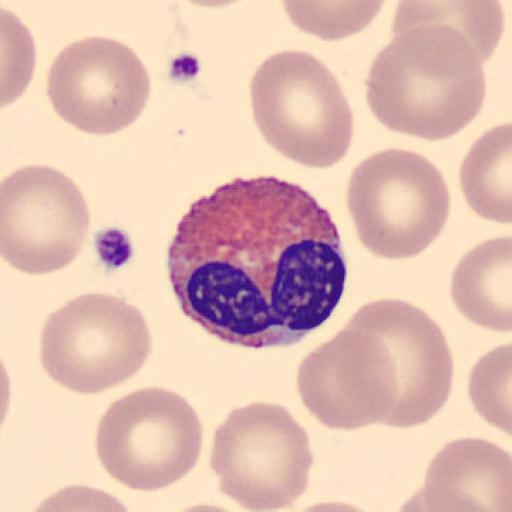RBC: (342, 296, 454, 430), (364, 22, 488, 142), (248, 49, 356, 170), (344, 144, 451, 262), (38, 290, 154, 397), (93, 384, 206, 493), (207, 400, 315, 511), (46, 34, 154, 138), (295, 328, 400, 432), (2, 162, 92, 276), (391, 0, 506, 66), (422, 435, 512, 511), (449, 233, 512, 335), (458, 120, 512, 226), (278, 0, 389, 42), (468, 339, 512, 435), (2, 4, 38, 110), (24, 481, 140, 512), (393, 482, 489, 512), (271, 498, 385, 512), (0, 350, 13, 436), (0, 346, 10, 452), (160, 502, 260, 512), (164, 0, 260, 10)
WBC: (164, 176, 348, 348)
